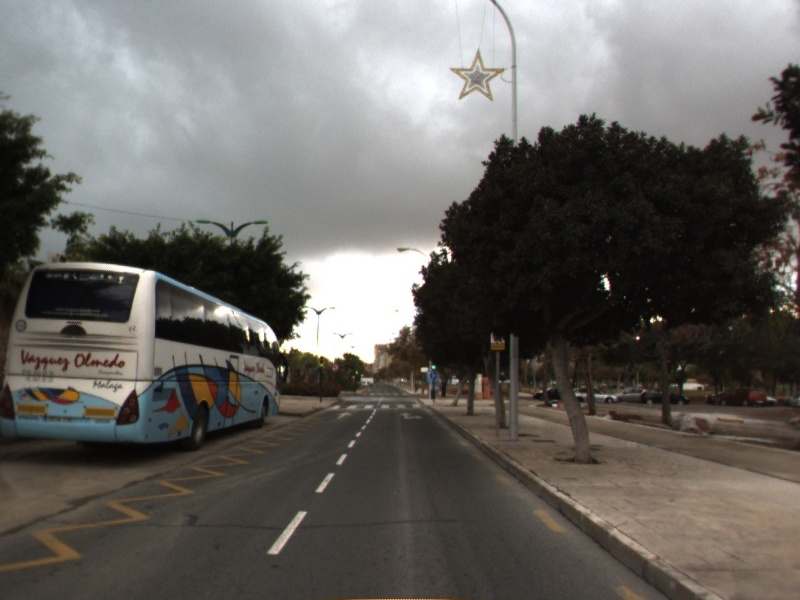STRAIGHT: (334, 410, 355, 421)
STRAIGHT_RIGHT: (397, 410, 425, 423)
